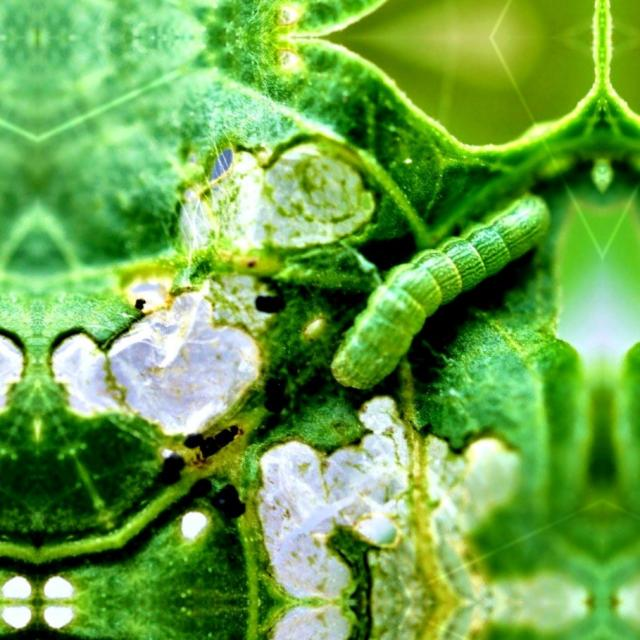Armyworm: (326, 193, 566, 398)
Armyworm_damage: (184, 424, 436, 637), (22, 262, 280, 455), (129, 112, 382, 296)
